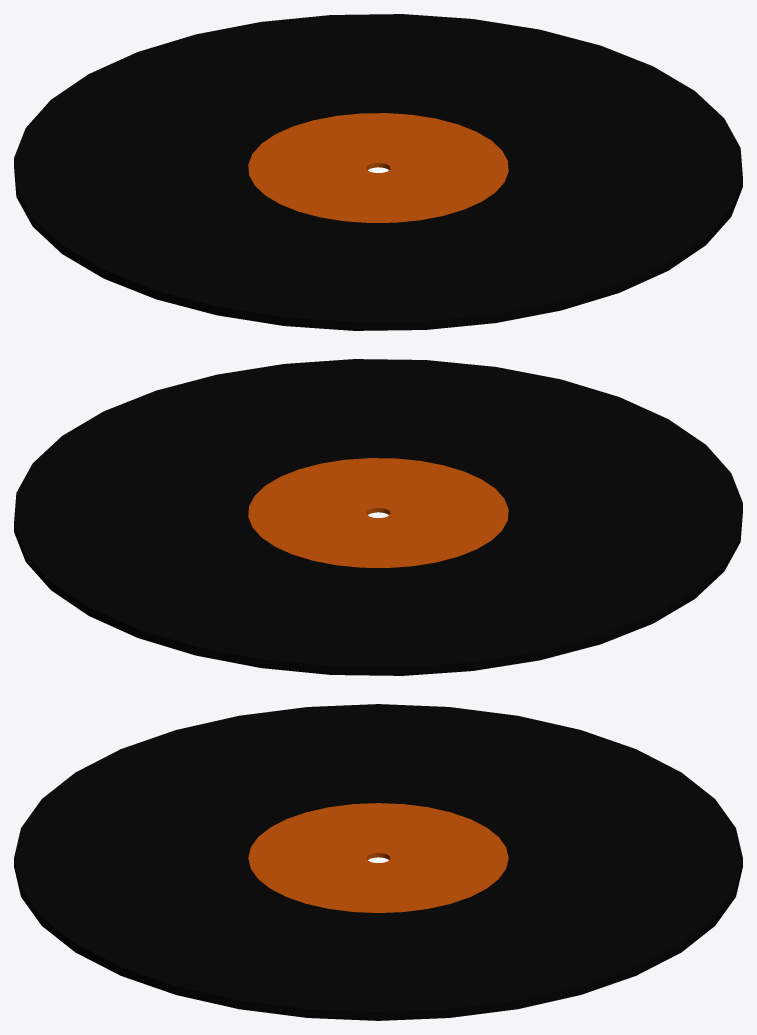
The model's file is recordcomplete.fbx.
3 renders of one model, top to bottom at view 1: azimuth 30°, elevation 25°; view 2: azimuth 150°, elevation 25°; view 3: azimuth 270°, elevation 25°, orthographic.
Parts seen in each view (by area): view 1: c_record; view 2: c_record; view 3: c_record.
Boxes of the visible parts, <box> form: c_record: <box>14,14,742,330</box>; c_record: <box>14,359,742,675</box>; c_record: <box>14,704,742,1020</box>.
Size of the model in its own units: 60 by 0.8 by 60.
